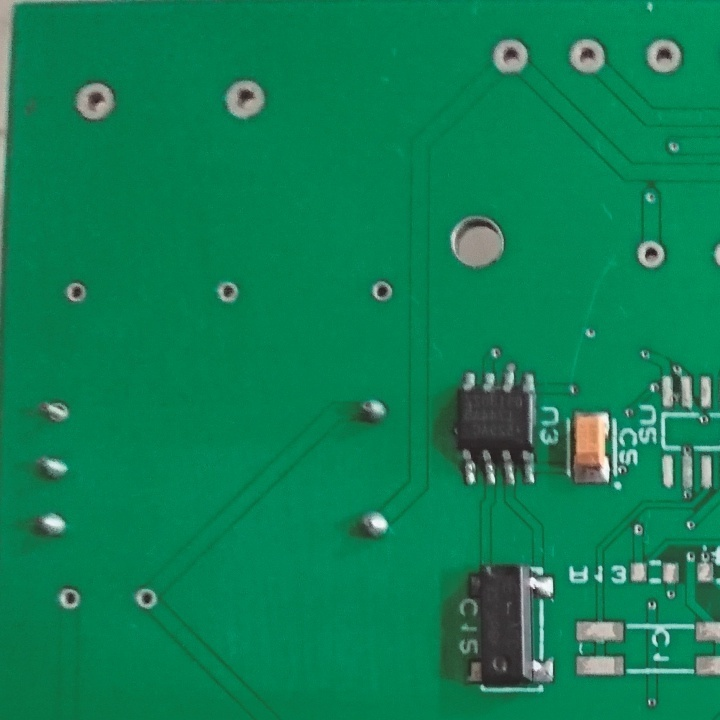F: (220, 79, 265, 123), (641, 35, 685, 79), (73, 81, 117, 124), (564, 36, 609, 76), (489, 36, 530, 77), (634, 240, 668, 273), (41, 395, 72, 429), (53, 586, 87, 611), (369, 278, 396, 304), (133, 586, 159, 612), (214, 282, 241, 304), (64, 283, 87, 306)
